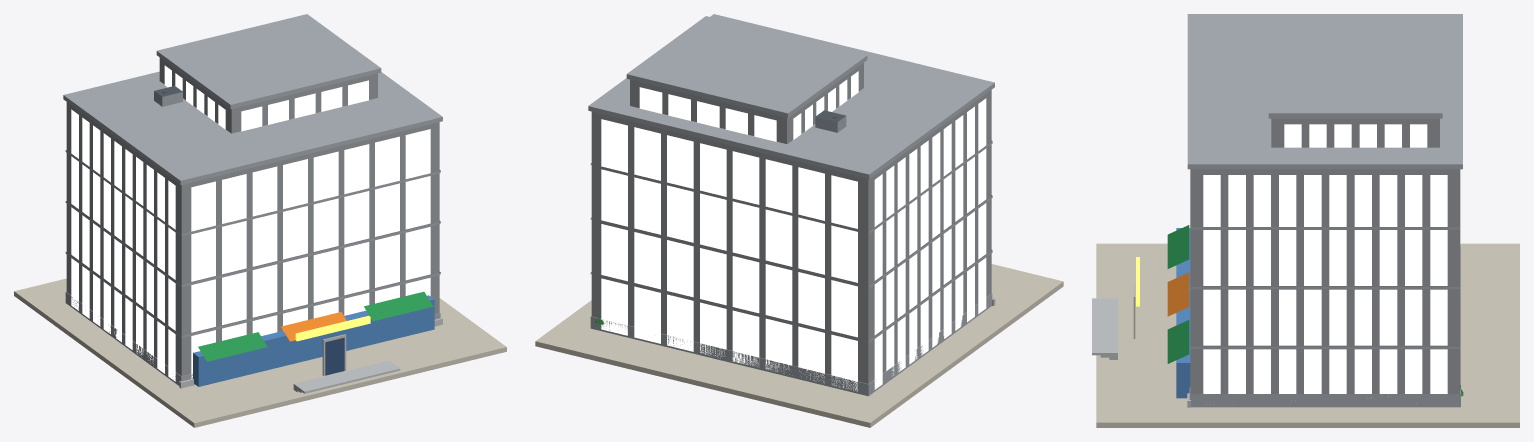
The picture shows the model from 3 angles, left to right: view 1: azimuth 30°, elevation 25°; view 2: azimuth 150°, elevation 25°; view 3: azimuth 270°, elevation 25°; orthographic projection. The views are drawn at different scales.
Parts seen in each view (by area): view 1: b20_x2; view 2: b20_x2; view 3: b20_x2.
Boxes of the visible parts, x1,y1,x2,y2 form: b20_x2: (14,14,506,427); b20_x2: (535,14,1063,427); b20_x2: (1092,14,1519,427).
Bounding box in the file's own units: 1.96 × 1.45 × 1.98.
